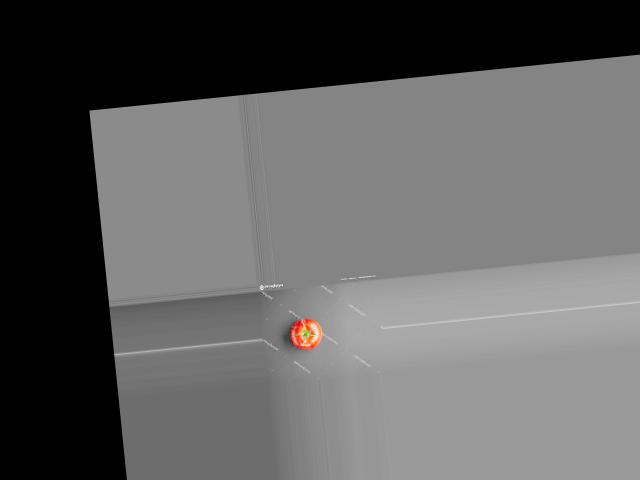tomato: (289, 316, 324, 351)
